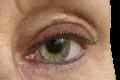eye: (42, 38, 70, 61)
